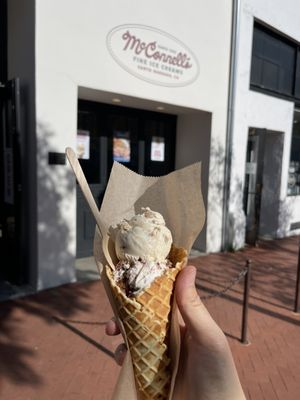pizza: (107, 265, 247, 400)
